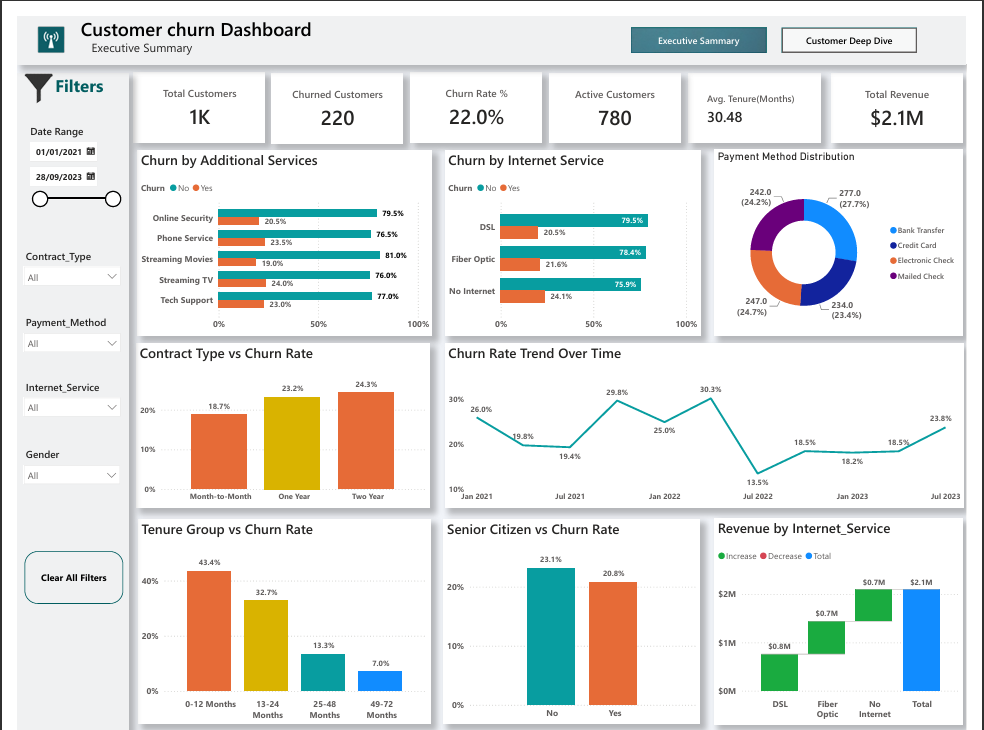

The dashboard page shown, as its layout file describes it:
{"tool":"powerbi","page":{"name":"Executive Summary","canvas":[1500,1150],"ordinal":0},"visuals":[{"type":"shape","box":[0,0,1500,76],"z":0,"group":"g4"},{"type":"cardVisual","fields":{"Data":["Measures (3).Total Customers"]},"box":[183.6,89.3,208.4,110.8],"z":0},{"type":"shape","box":[0,90.6,175.7,1060.3],"z":0,"group":"g1"},{"type":"group","id":"g1","title":"Group 2","box":[0,90.6,175.7,1060.3],"z":500,"group":"g2"},{"type":"textbox","box":[112,32,231.2,37.3],"z":1000,"group":"g4"},{"type":"group","id":"g2","title":"Group 3","box":[0,90.6,175.7,1060.3],"z":1000,"group":"g3"},{"type":"cardVisual","fields":{"Data":["Measures (3).Churned Customers"]},"box":[401.8,90.9,208.4,110.8],"z":1000},{"type":"slicer","fields":{"Values":["Telecom_Churn_Data.Join_Date"]},"box":[6.8,166,165.3,196.9],"z":1000,"group":"g1"},{"type":"actionButton","box":[11.3,845.1,155.5,83.3],"z":1500,"group":"g2"},{"type":"cardVisual","fields":{"Data":["Measures (3).Churn Rate %"]},"box":[621.8,89.3,208.4,110.8],"z":2000},{"type":"slicer","fields":{"Values":["Telecom_Churn_Data.Contract_Type"]},"box":[0,362.9,172.8,125.9],"z":2000,"group":"g1"},{"type":"slicer","fields":{"Values":["Telecom_Churn_Data.Payment_Method"]},"box":[0,467.4,172.8,133.1],"z":3000,"group":"g1"},{"type":"cardVisual","fields":{"Data":["Measures (3).Total Revenue"]},"box":[1287.2,90.5,207.8,110.6],"z":4000},{"type":"slicer","fields":{"Values":["Telecom_Churn_Data.Internet_Service"]},"box":[0,569.3,172.8,133.1],"z":4000,"group":"g1"},{"type":"slicer","fields":{"Values":["Telecom_Churn_Data.Gender"]},"box":[0,676.9,172,133.6],"z":5000,"group":"g1"},{"type":"cardVisual","fields":{"Data":["Measures (3).Average Tenure"]},"box":[1060.9,90.5,209.5,110.6],"z":6000},{"type":"cardVisual","fields":{"Data":["Measures (3).Active Customers"]},"box":[841.3,90.5,207.8,110.6],"z":7000},{"type":"clusteredBarChart","title":"Churn by Additional Services","fields":{"Category":["Telecom_Churn_Data.Additional services"],"Series":["Telecom_Churn_Data.Churn"],"Y":["Measures (3).Customer %"]},"box":[190,212,466,294],"z":8000},{"type":"donutChart","title":"Payment Method Distribution","fields":{"Category":["Telecom_Churn_Data.Payment_Method"],"Y":["CountNonNull(Telecom_Churn_Data.Customer_ID)"]},"box":[1101.6,211.3,393.5,295.2],"z":9000},{"type":"clusteredBarChart","title":"Churn by Internet Service","fields":{"Series":["Telecom_Churn_Data.Churn"],"Y":["Measures (3).Customer %"],"Category":["Telecom_Churn_Data.Internet_Service"]},"box":[676,212,404,294],"z":10000},{"type":"clusteredColumnChart","title":"Contract Type vs Churn Rate","fields":{"Category":["Telecom_Churn_Data.Contract_Type"],"Y":["Measures (3).Churn Rate %"]},"box":[188,518,464,260],"z":11000},{"type":"lineChart","title":"Churn Rate Trend Over Time","fields":{"Y":["Measures (3).Churn Rate %"],"Category":["Telecom_Churn_Data.Join_Date.Variation.Date Hierarchy.Year","Telecom_Churn_Data.Join_Date.Variation.Date Hierarchy.Quarter"]},"box":[676,518,820,260],"z":12000},{"type":"columnChart","title":"Tenure Group vs Churn Rate","fields":{"Category":["Telecom_Churn_Data.Tenure Group"],"Y":["Measures (3).Churn Rate %"]},"box":[190.9,795.8,462.3,324.3],"z":13000},{"type":"columnChart","title":"Senior Citizen vs Churn Rate","fields":{"Category":["Telecom_Churn_Data.Senior_Citizen"],"Y":["Measures (3).Churn Rate %"]},"box":[673.9,795.8,404.8,324.3],"z":14000},{"type":"waterfallChart","title":"Revenue by Internet_Service","fields":{"Category":["Telecom_Churn_Data.Internet_Service"],"Y":["Measures (3).Total Revenue"]},"box":[1101.7,793.5,393.3,326.6],"z":15000},{"type":"image","box":[0,75.9,66.7,69],"z":15003,"group":"g3"},{"type":"group","id":"g3","title":"Group 5","box":[0,75.9,175.7,1075],"z":16000},{"type":"image","box":[0,8,105.8,57.5],"z":17000,"group":"g4"},{"type":"actionButton","box":[970,18,214.3,39.8],"z":18500,"group":"g4"},{"type":"actionButton","box":[1208,18,214.3,39.8],"z":19000,"group":"g4"},{"type":"group","id":"g4","title":"Group 1","box":[0,0,1500,76],"z":19001}]}

Visuals, with their boxes on the page's 1500x1150 design canvas (x1, y1, x2, y2). These are canvas units, not pixel positions in the 984x730 screenshot, which may show the page scaled, cropped or inside an application window:
shape: bbox=(0, 0, 1500, 76)
cardVisual - Measures (3).Total Customers: bbox=(184, 89, 392, 200)
shape: bbox=(0, 91, 176, 1151)
"Group 2" group: bbox=(0, 91, 176, 1151)
textbox: bbox=(112, 32, 343, 69)
"Group 3" group: bbox=(0, 91, 176, 1151)
cardVisual - Measures (3).Churned Customers: bbox=(402, 91, 610, 202)
slicer - Telecom_Churn_Data.Join_Date: bbox=(7, 166, 172, 363)
actionButton: bbox=(11, 845, 167, 928)
cardVisual - Measures (3).Churn Rate %: bbox=(622, 89, 830, 200)
slicer - Telecom_Churn_Data.Contract_Type: bbox=(0, 363, 173, 489)
slicer - Telecom_Churn_Data.Payment_Method: bbox=(0, 467, 173, 600)
cardVisual - Measures (3).Total Revenue: bbox=(1287, 90, 1495, 201)
slicer - Telecom_Churn_Data.Internet_Service: bbox=(0, 569, 173, 702)
slicer - Telecom_Churn_Data.Gender: bbox=(0, 677, 172, 810)
cardVisual - Measures (3).Average Tenure: bbox=(1061, 90, 1270, 201)
cardVisual - Measures (3).Active Customers: bbox=(841, 90, 1049, 201)
"Churn by Additional Services" clusteredBarChart: bbox=(190, 212, 656, 506)
"Payment Method Distribution" donutChart: bbox=(1102, 211, 1495, 506)
"Churn by Internet Service" clusteredBarChart: bbox=(676, 212, 1080, 506)
"Contract Type vs Churn Rate" clusteredColumnChart: bbox=(188, 518, 652, 778)
"Churn Rate Trend Over Time" lineChart: bbox=(676, 518, 1496, 778)
"Tenure Group vs Churn Rate" columnChart: bbox=(191, 796, 653, 1120)
"Senior Citizen vs Churn Rate" columnChart: bbox=(674, 796, 1079, 1120)
"Revenue by Internet_Service" waterfallChart: bbox=(1102, 794, 1495, 1120)
image: bbox=(0, 76, 67, 145)
"Group 5" group: bbox=(0, 76, 176, 1151)
image: bbox=(0, 8, 106, 66)
actionButton: bbox=(970, 18, 1184, 58)
actionButton: bbox=(1208, 18, 1422, 58)
"Group 1" group: bbox=(0, 0, 1500, 76)
